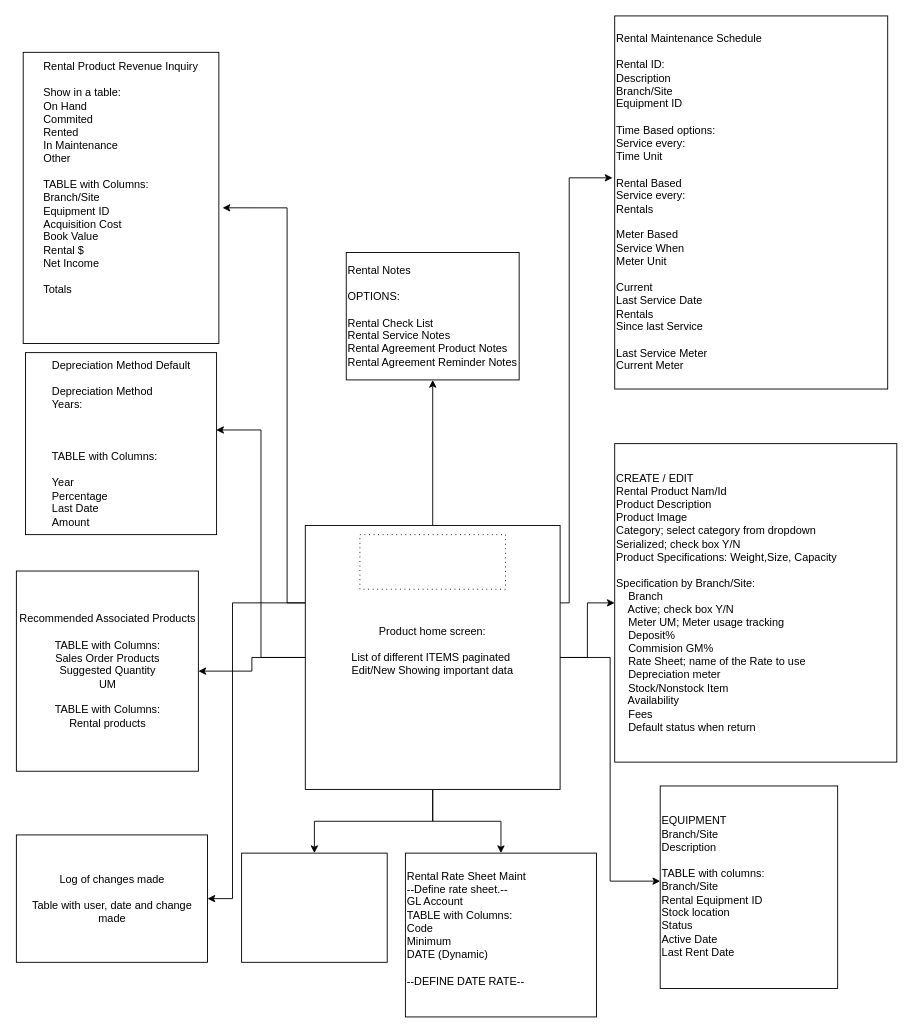
The diagram is 913 pixels wide and 1033 high, and some of its shapes have lost their labels. Each missing label, with the centre of its shape:
Additional Rental Fees TABLE with Columns: Description Amount: [314,907]
Product Management: [432,561]
